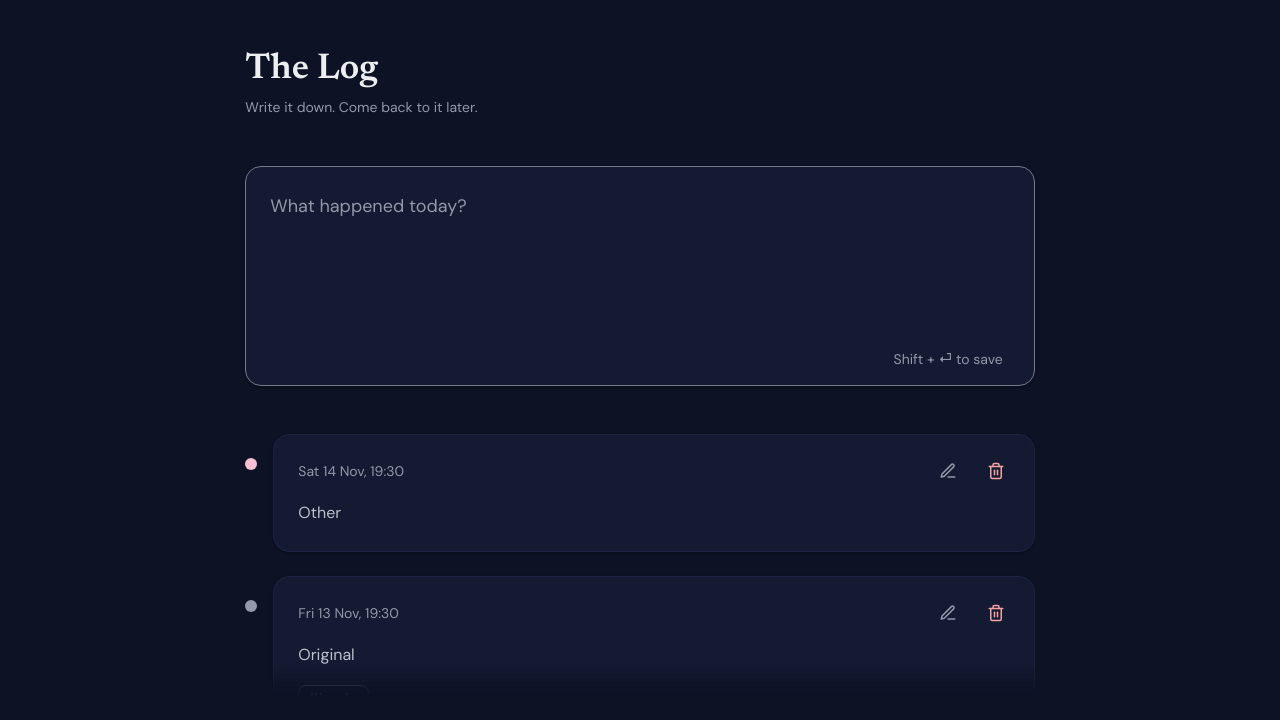
asks "Delete this thought?" with its time and text, no gist, and deletes after Delete thought
What coordinates should you click on to do the following:
click the button named "Delete thought, Fri 13 Nov, 19:30"
I would click on:
 (996, 613)
Its box is [974, 591, 1018, 635].
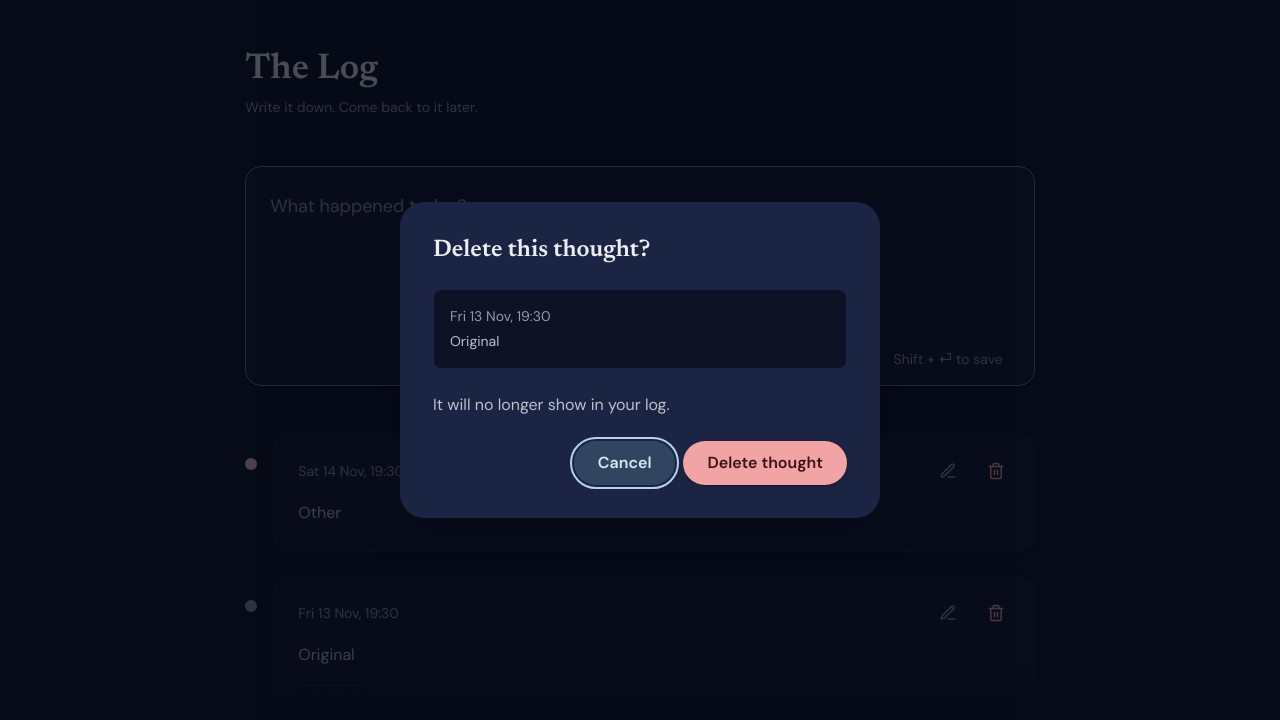
expect the dialog with class "delete-dialog" shows "Delete this thought?": met, box [433, 238, 650, 262]
expect the dialog with class "delete-dialog" shows "Original": met, box [450, 332, 499, 350]
expect the text with class "delete-dialog__time" reads "Fri 13 Nov, 19:30": met, box [450, 307, 550, 325]
What coordinates should you click on to do the following:
click the button "Delete thought"
I would click on:
 (765, 463)
Its box is [684, 441, 847, 485].
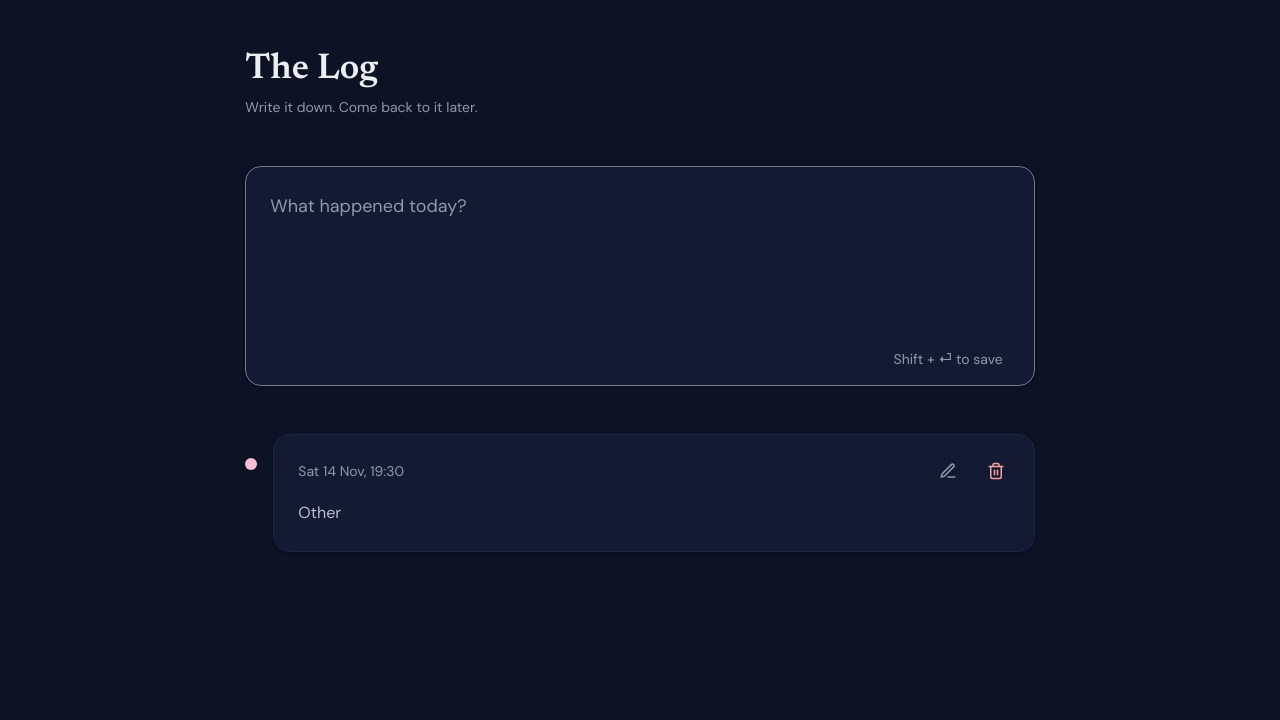
expect the dialog with class "delete-dialog" is gone: met
